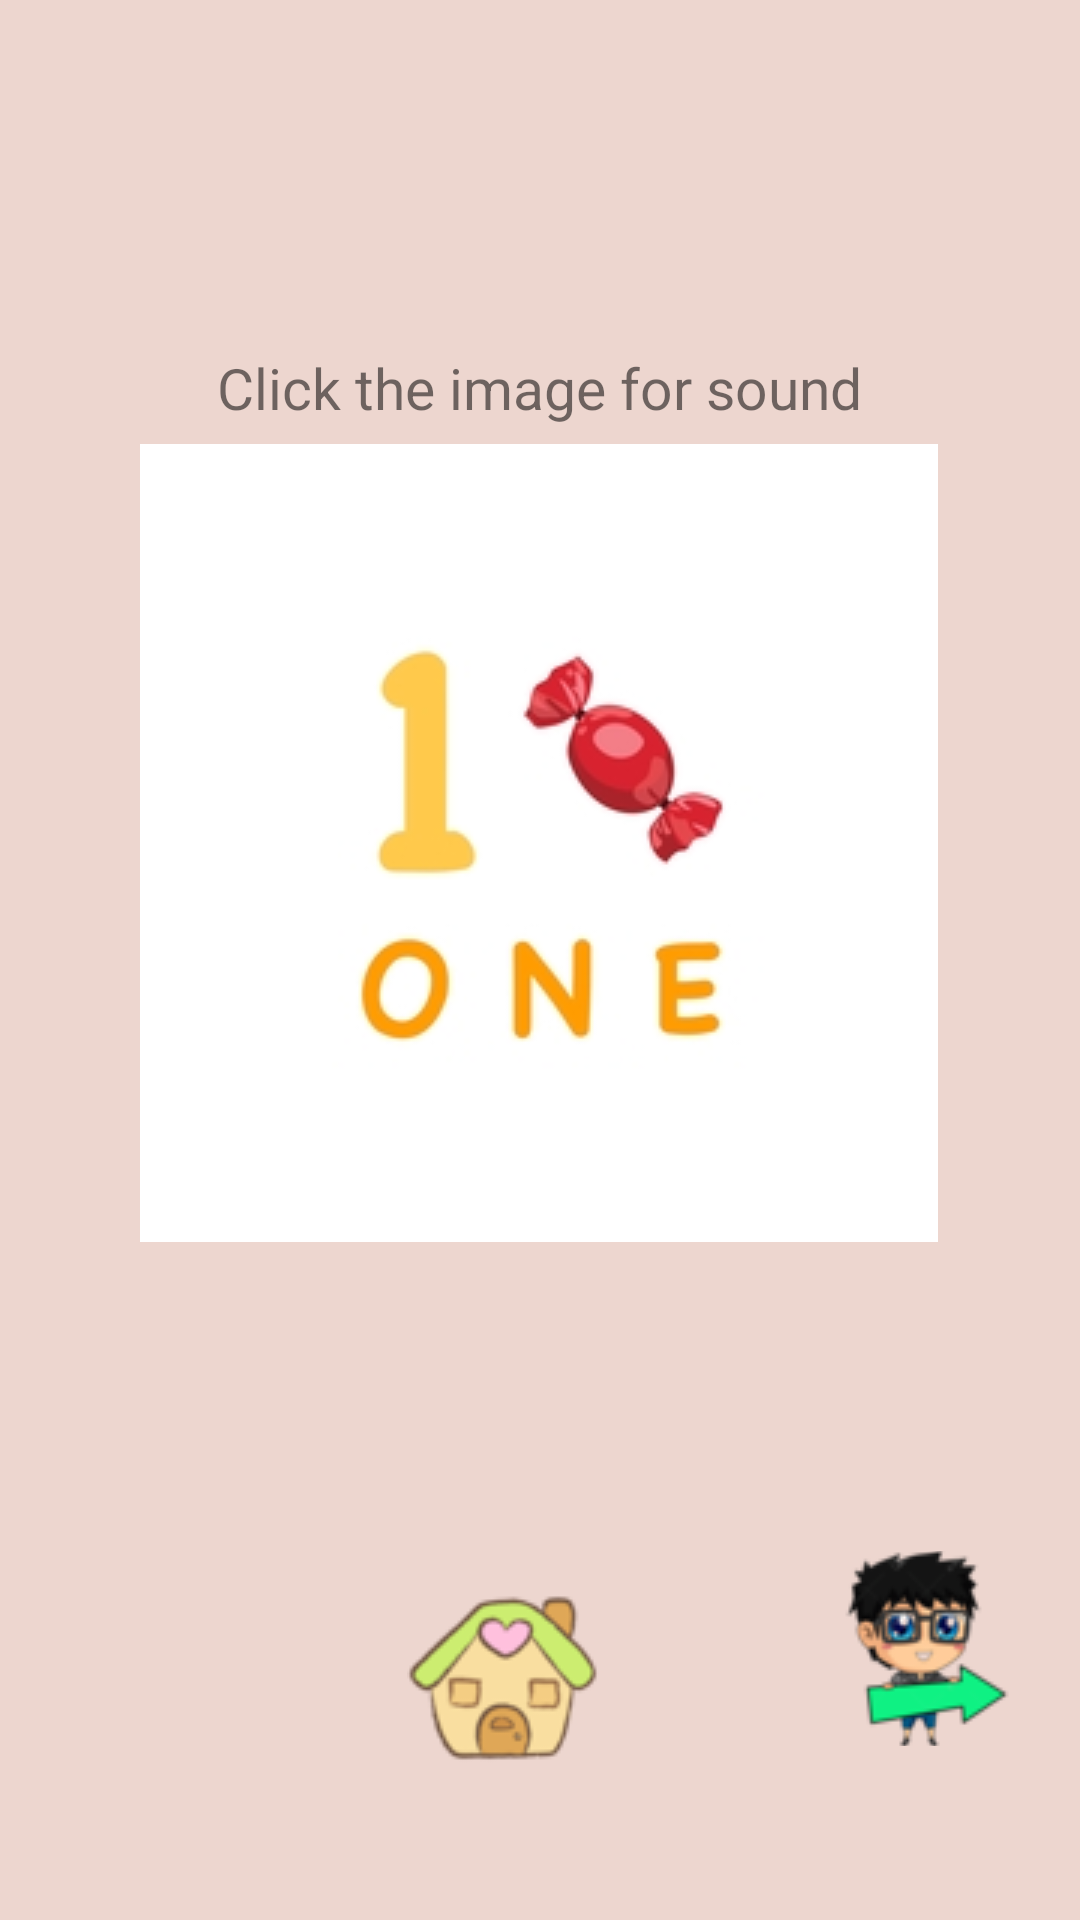

Icons on this 1080px×1920px Android screen, each with its box as {"x1": x1, "y1": y1, "x2": x2, "y2": y2}:
home: {"x1": 409, "y1": 1596, "x2": 597, "y2": 1760}
next: {"x1": 848, "y1": 1551, "x2": 1007, "y2": 1746}
